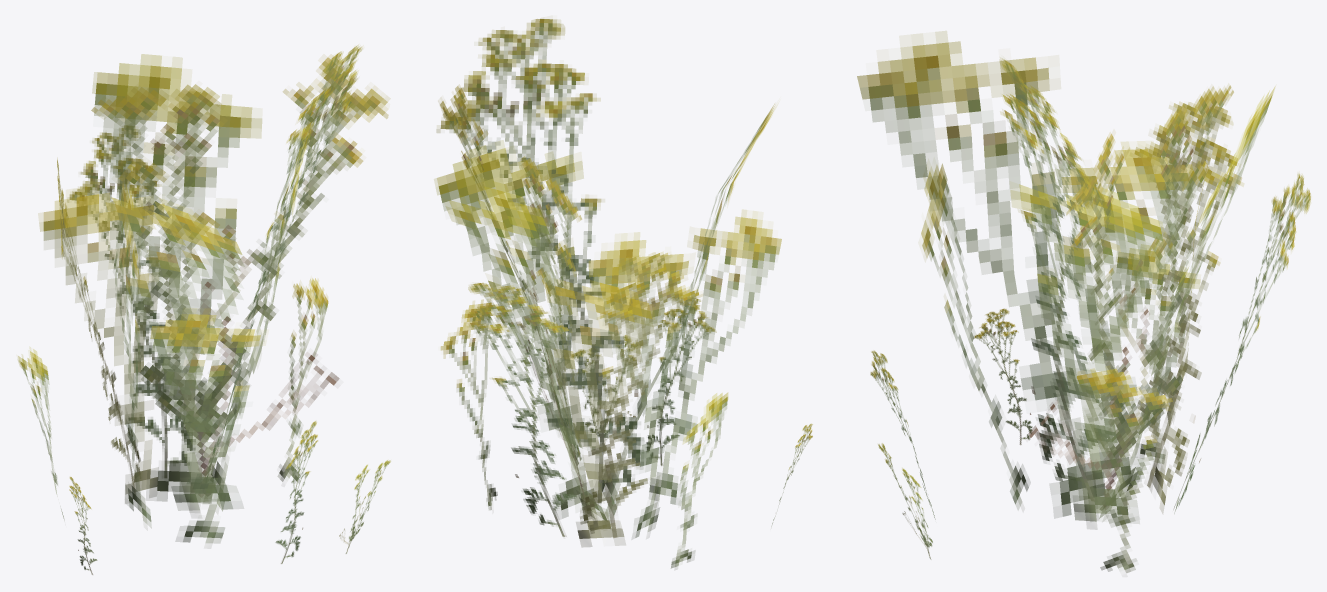
File: Senacio_A.glb
3 views of the same model, side by side, from view 1: azimuth 30°, elevation 25°; view 2: azimuth 150°, elevation 25°; view 3: azimuth 270°, elevation 25° (orthographic). The views are drawn at different scales.
Parts seen in each view (by area): view 1: LOD0.004; view 2: LOD0.004; view 3: LOD0.004.
Part boxes in pixels (x1,y1,x2,y2): LOD0.004: (18, 45, 390, 574); LOD0.004: (434, 18, 812, 569); LOD0.004: (857, 31, 1310, 572).
Size of what is drawn, in the model's own units: 0.9049 by 1.16 by 0.9462.
1 material, 1 textured.
